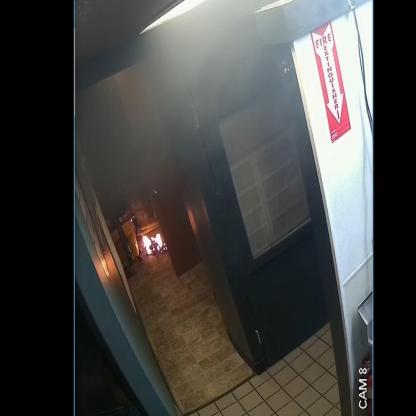fire: (142, 234, 163, 254)
